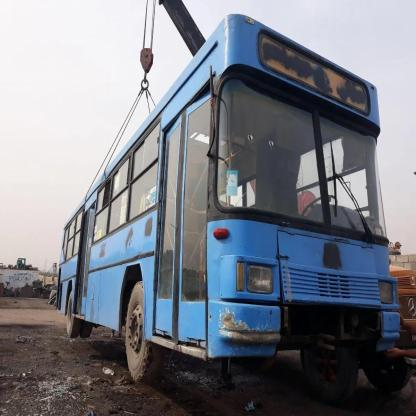Bus: (54, 9, 401, 395)
Truck: (386, 254, 416, 350)
